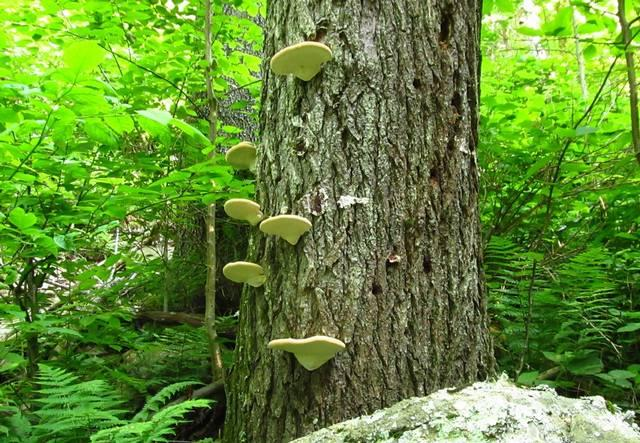Non-edible Mushroom: (266, 334, 346, 371), (268, 39, 332, 82), (258, 213, 312, 245), (222, 260, 266, 288), (222, 197, 262, 226), (224, 140, 257, 171)
